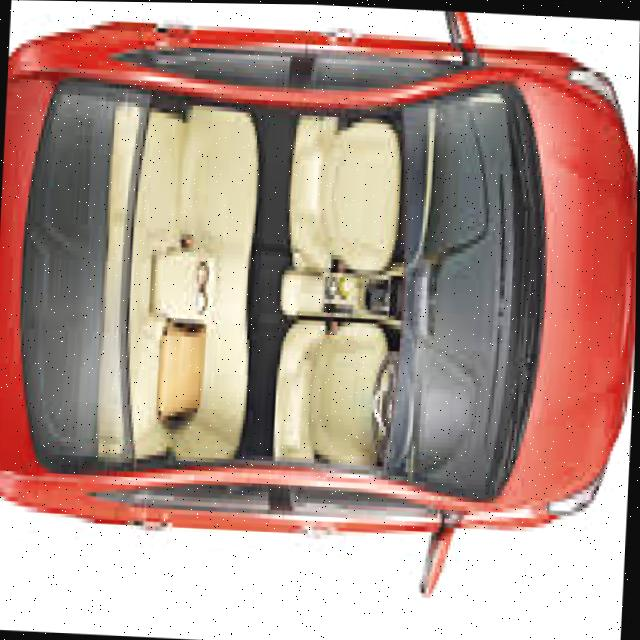truck: (0, 15, 640, 533)
